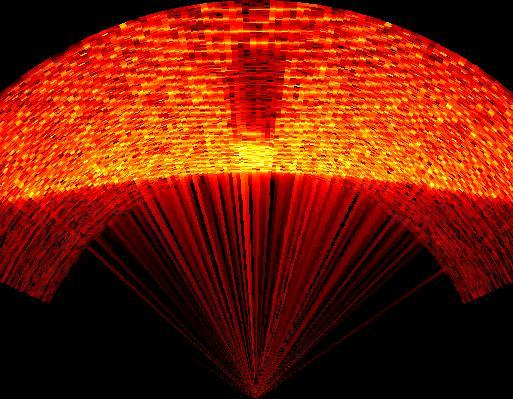box_crate: (223, 41, 287, 138)
